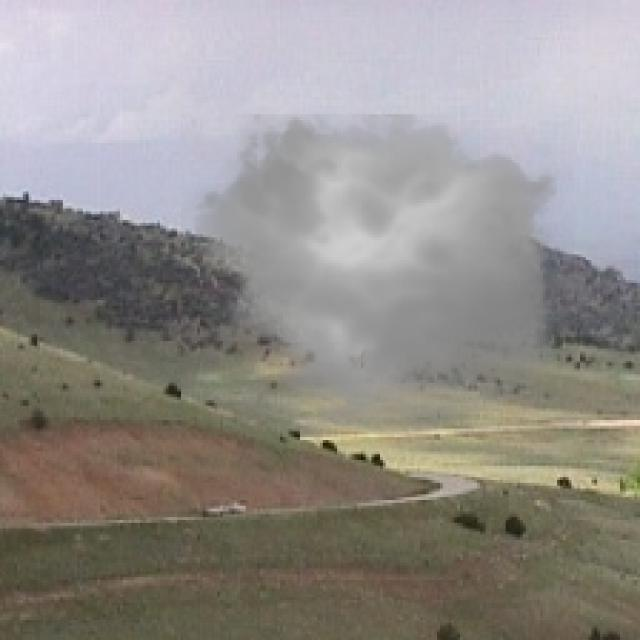Smoke: (180, 97, 574, 446)
